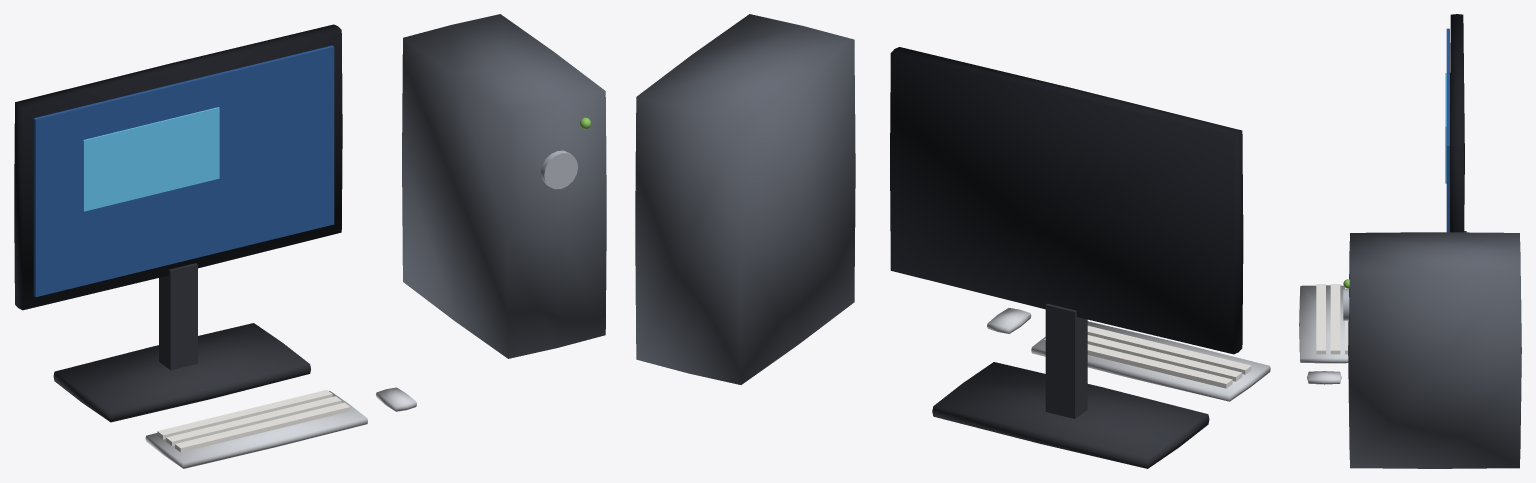
The model's file is computer.glb.
The picture shows the model from 3 angles, left to right: view 1: azimuth 30°, elevation 25°; view 2: azimuth 150°, elevation 25°; view 3: azimuth 270°, elevation 25°; orthographic projection. The views are drawn at different scales.
Parts seen in each view (by area): view 1: root; view 2: root; view 3: root.
Boxes of the visible parts, x1,y1,x2,y2 form: root: [14, 14, 606, 468]; root: [635, 14, 1270, 468]; root: [1299, 14, 1521, 468].
Size of the model in its own units: 1.55 by 0.88 by 0.705.
